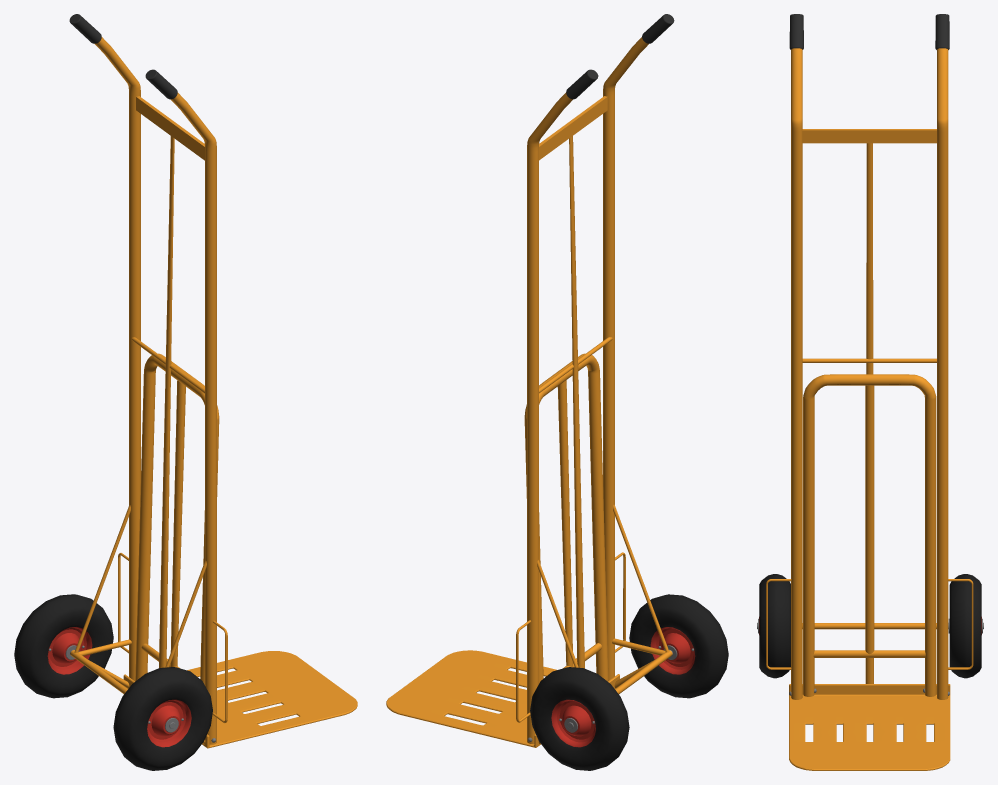
Rendered from hand_truck.fbx.
3 renders of one model, left to right at view 1: azimuth 30°, elevation 25°; view 2: azimuth 150°, elevation 25°; view 3: azimuth 270°, elevation 25°, orthographic. The views are drawn at different scales.
Visible parts, largest first — view 1: handtruck_combined_uvs_merged_result; view 2: handtruck_combined_uvs_merged_result; view 3: handtruck_combined_uvs_merged_result.
Part boxes in pixels (x1,y1,x2,y2): handtruck_combined_uvs_merged_result: (14,14,357,770); handtruck_combined_uvs_merged_result: (386,14,728,770); handtruck_combined_uvs_merged_result: (757,14,983,770).
Bounding box in the file's own units: 4.61 × 11.69 × 3.64.
4 materials, 4 textured.
